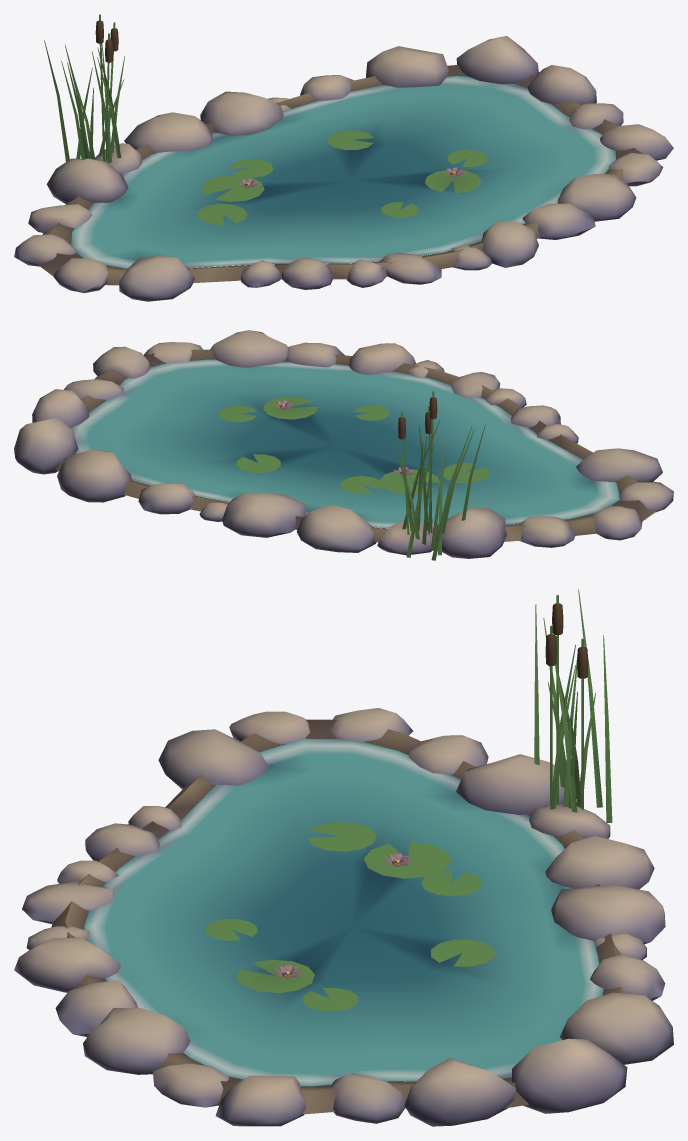
Rendered from DuckPond.fbx.
The picture shows the model from 3 angles, top to bottom: view 1: azimuth 30°, elevation 25°; view 2: azimuth 150°, elevation 25°; view 3: azimuth 270°, elevation 25°; orthographic projection. The views are drawn at different scales.
Visible parts, largest first — view 1: DuckPond; view 2: DuckPond; view 3: DuckPond.
Part boxes in pixels (left/top/right/bottom): DuckPond: left=14, top=14, right=673, bottom=301; DuckPond: left=14, top=330, right=673, bottom=560; DuckPond: left=14, top=589, right=673, bottom=1126.
Bounding box in the file's own units: 4.4 × 1.18 × 3.
